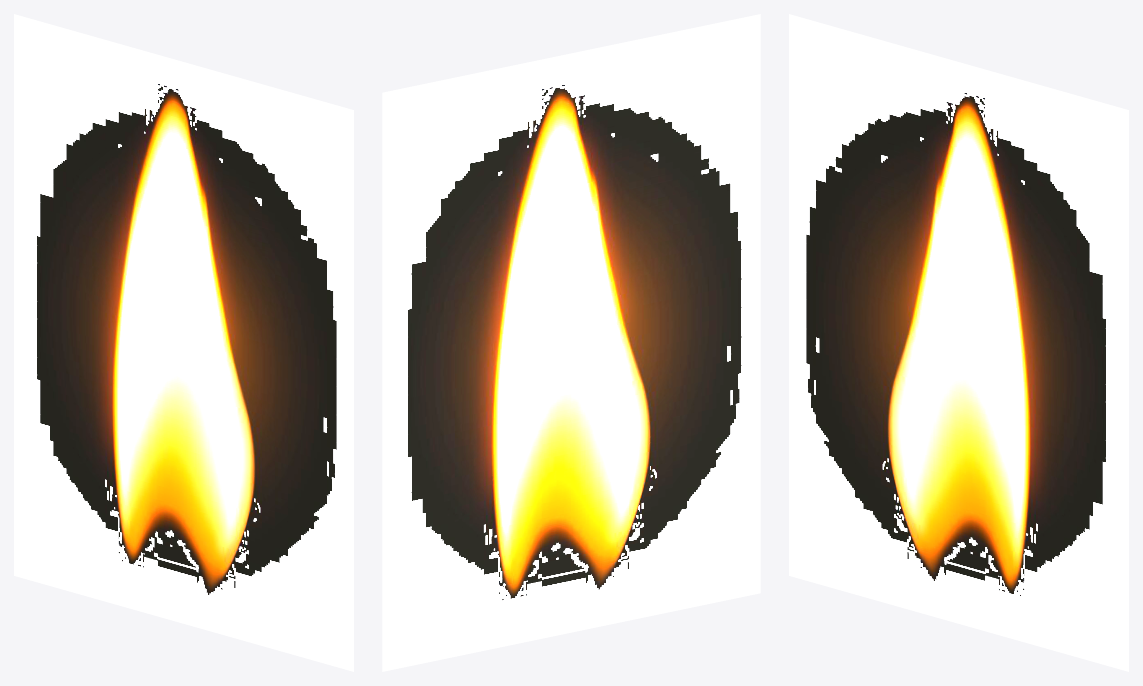
3 renders of one model, left to right at view 1: azimuth 90°, elevation 25°; view 2: azimuth 150°, elevation 25°; view 3: azimuth 270°, elevation 25°, orthographic. The views are drawn at different scales.
Visible parts, largest first — view 1: _114; view 2: _114; view 3: _114.
Part boxes in pixels (x1,y1,x2,y2): _114: (14,14,353,671); _114: (382,14,760,671); _114: (789,14,1128,671).
Size of the model in its own units: 4.11 by 11.21 by 6.14.
